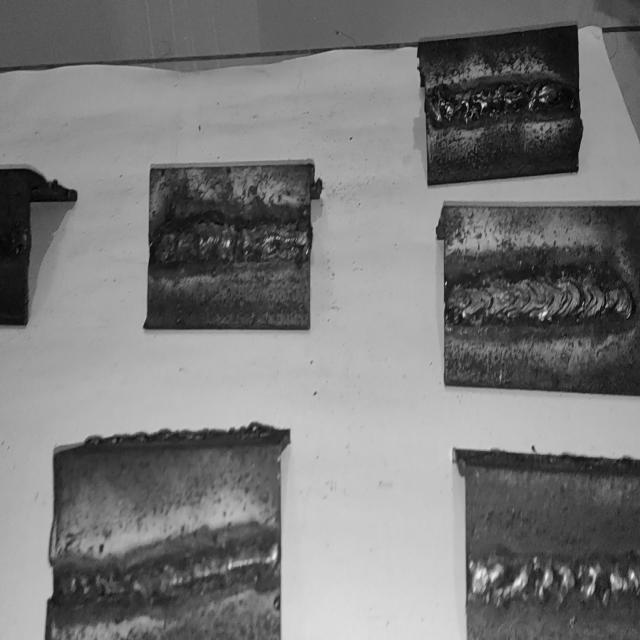Bad Weld: (467, 555, 640, 605), (426, 83, 581, 129)
Defect: (469, 553, 640, 605), (425, 83, 577, 122)
Good Weld: (57, 542, 278, 612), (447, 279, 634, 324), (150, 219, 310, 263)
